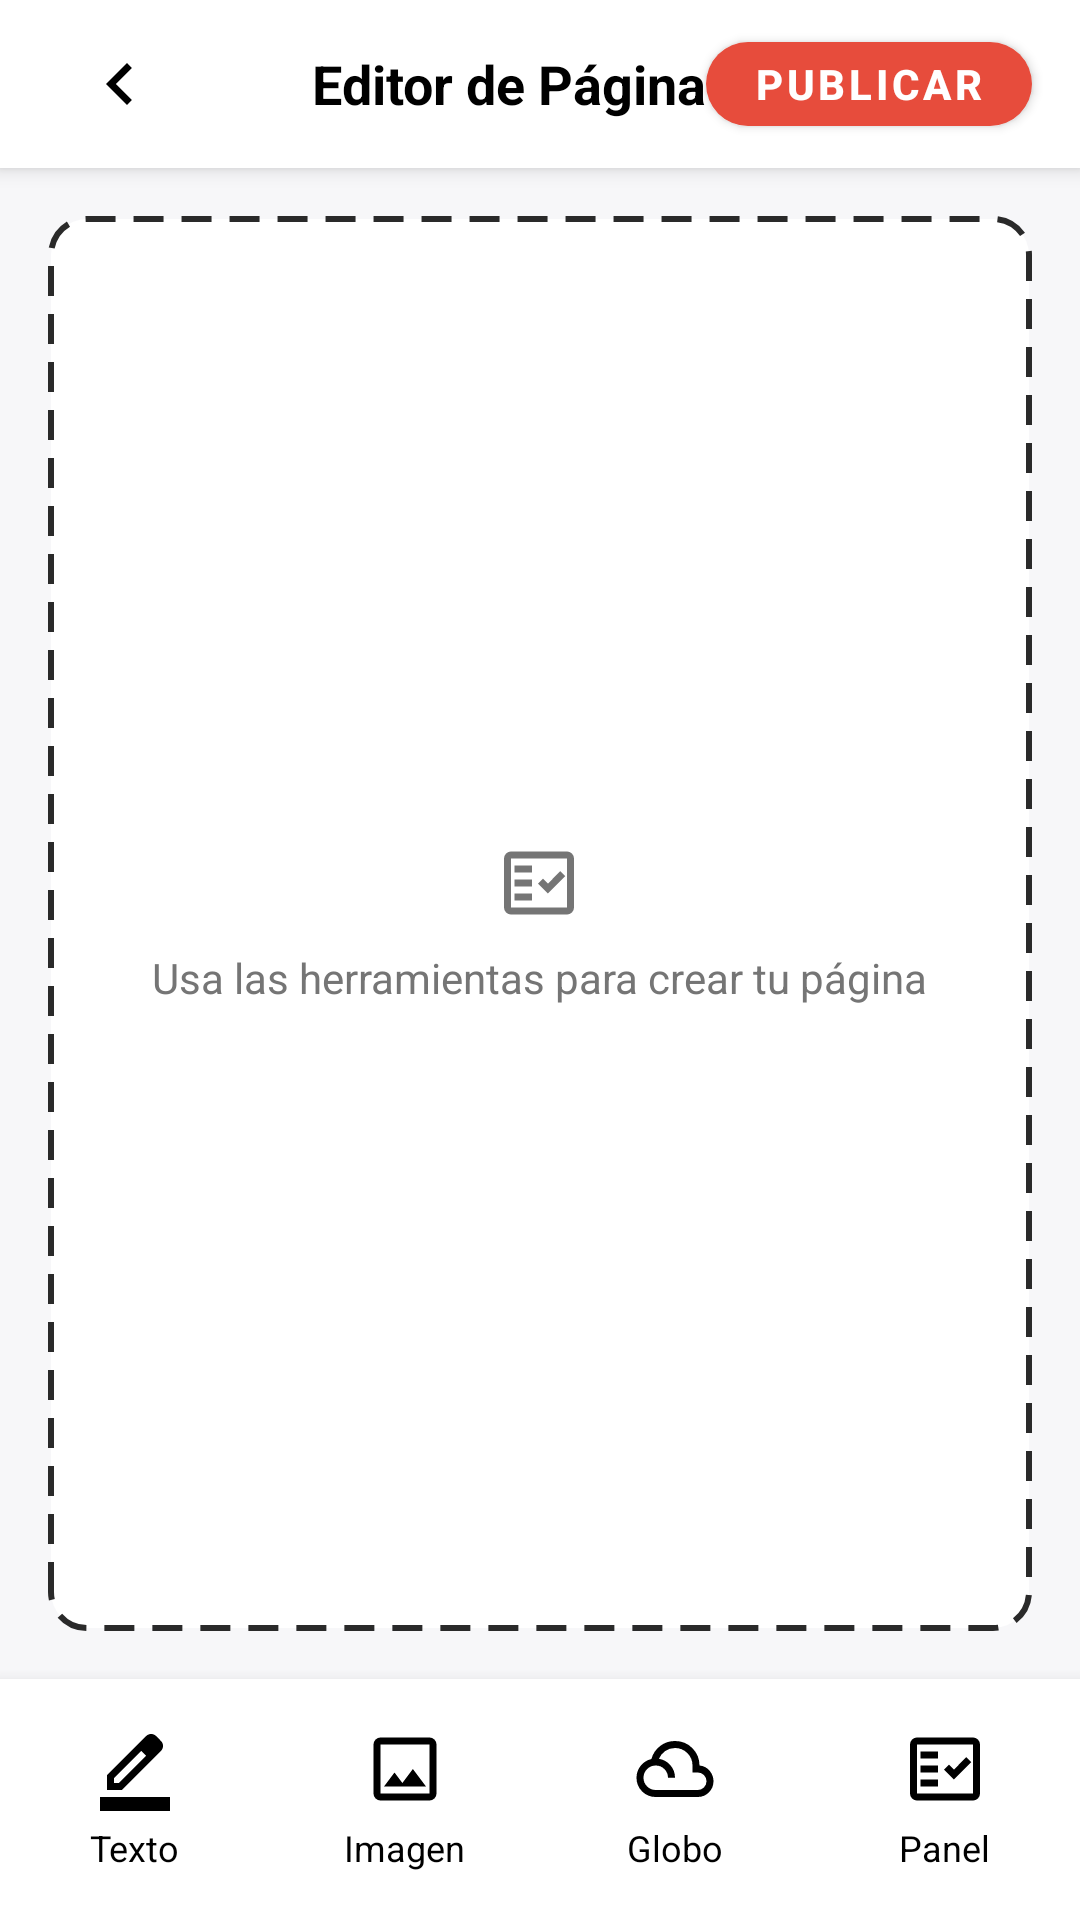

Where to tap for icons on this 1080px x 1920px app screen, as point (x, y):
edit: point (135, 1772)
Volver: point (119, 84)
